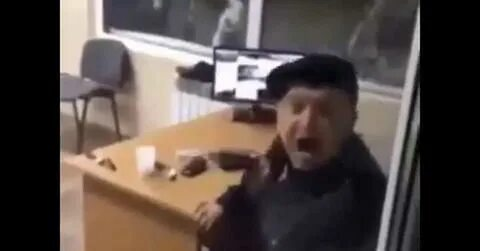awake: (194, 52, 388, 251)
